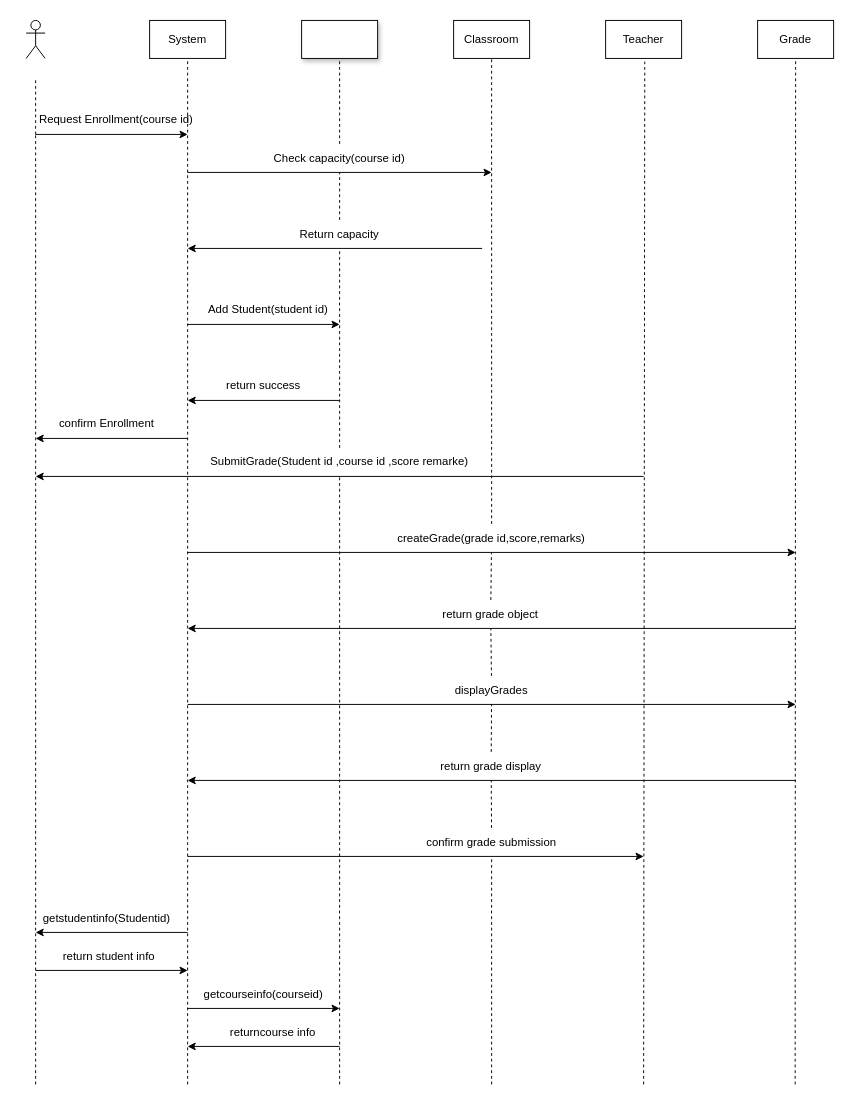
Some shapes in this 850 by 1102 pixel diagram are drawn without their labels. The centre of each missing label's shape, as x and y in pixels:
"Course" belongs at point 340,40.
"Student" belongs at point 35,38.
